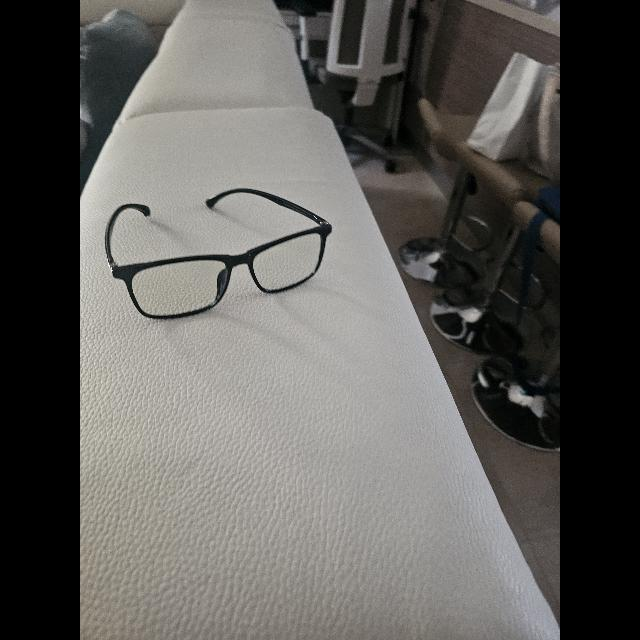glasses: (105, 188, 332, 318)
